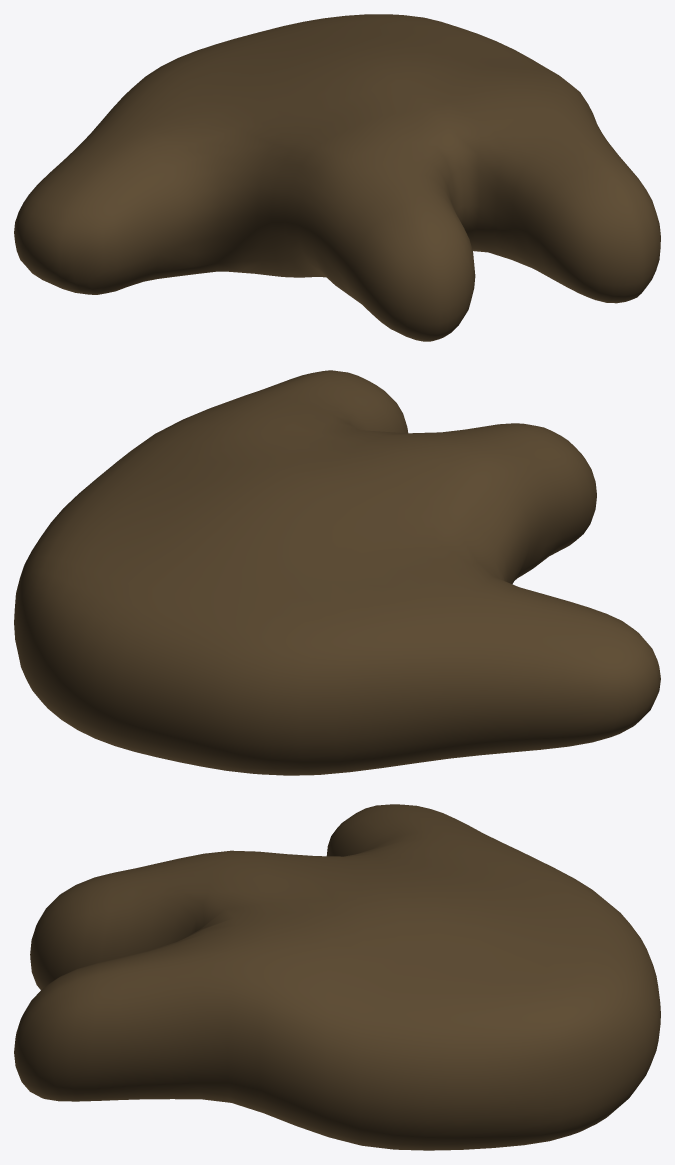
The model's file is left-hand.fbx.
The picture shows the model from 3 angles, top to bottom: view 1: azimuth 30°, elevation 25°; view 2: azimuth 150°, elevation 25°; view 3: azimuth 270°, elevation 25°; orthographic projection. The views are drawn at different scales.
Parts seen in each view (by area): view 1: Left Hand; view 2: Left Hand; view 3: Left Hand.
Boxes of the visible parts, bbox=[...] form: Left Hand: bbox=[14, 14, 660, 341]; Left Hand: bbox=[14, 370, 660, 775]; Left Hand: bbox=[14, 804, 660, 1150].
Size of the model in its own units: 15.99 by 5.25 by 15.84.
